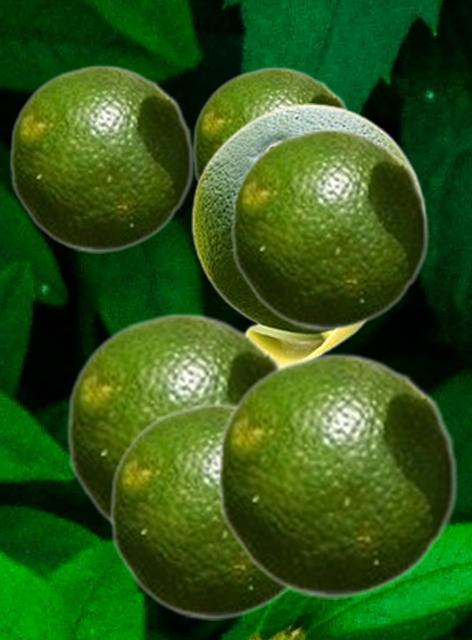calamansi: (191, 103, 425, 363), (215, 352, 458, 598), (65, 312, 285, 529), (229, 127, 429, 330), (108, 402, 290, 619), (8, 64, 194, 252), (191, 66, 352, 185)
